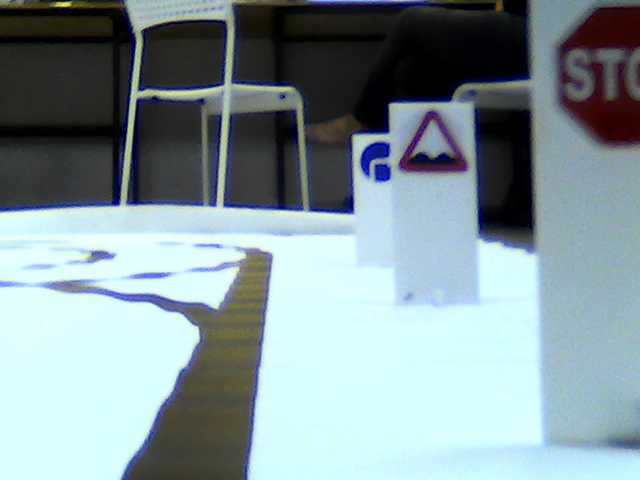Nerov: (397, 106, 471, 174)
